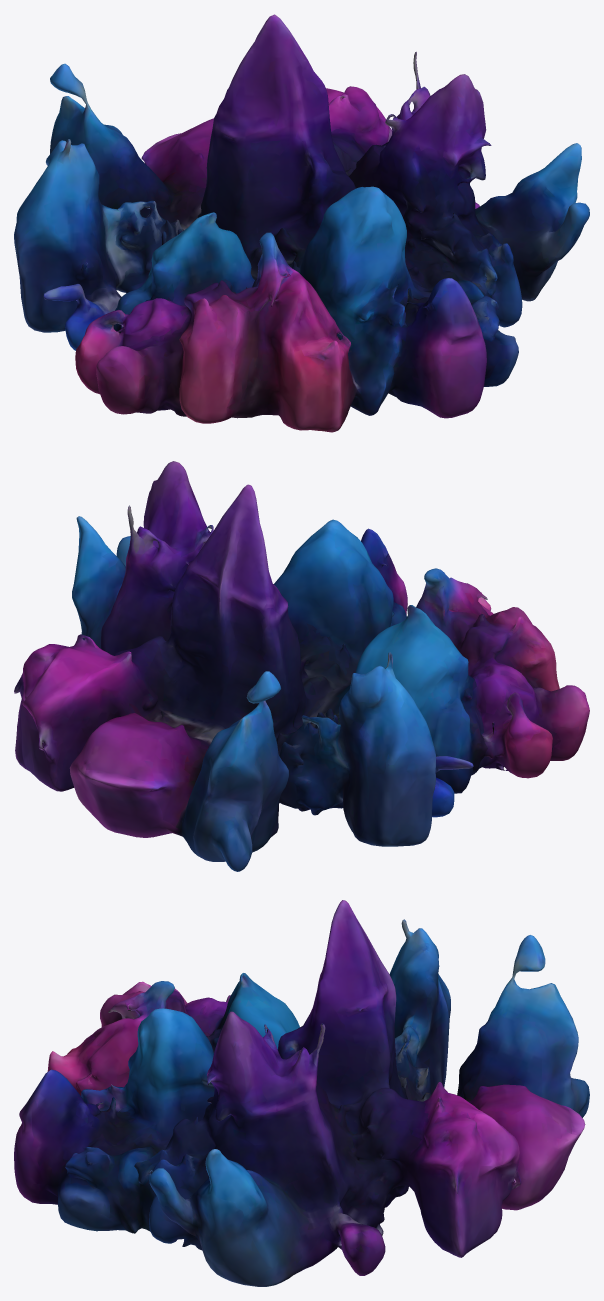
File: smallcryst.glb
3 views of the same model, one above another, from view 1: azimuth 30°, elevation 25°; view 2: azimuth 150°, elevation 25°; view 3: azimuth 270°, elevation 25° (orthographic).
Visible parts, largest first — view 1: high_poly; view 2: high_poly; view 3: high_poly.
Part boxes in pixels (x1,y1,x2,y2): high_poly: [14, 14, 589, 432]; high_poly: [14, 461, 589, 871]; high_poly: [14, 900, 589, 1286].
Size of the model in its own units: 0.9852 by 0.5515 by 1.
Materials: 1 (1 with a texture image).
